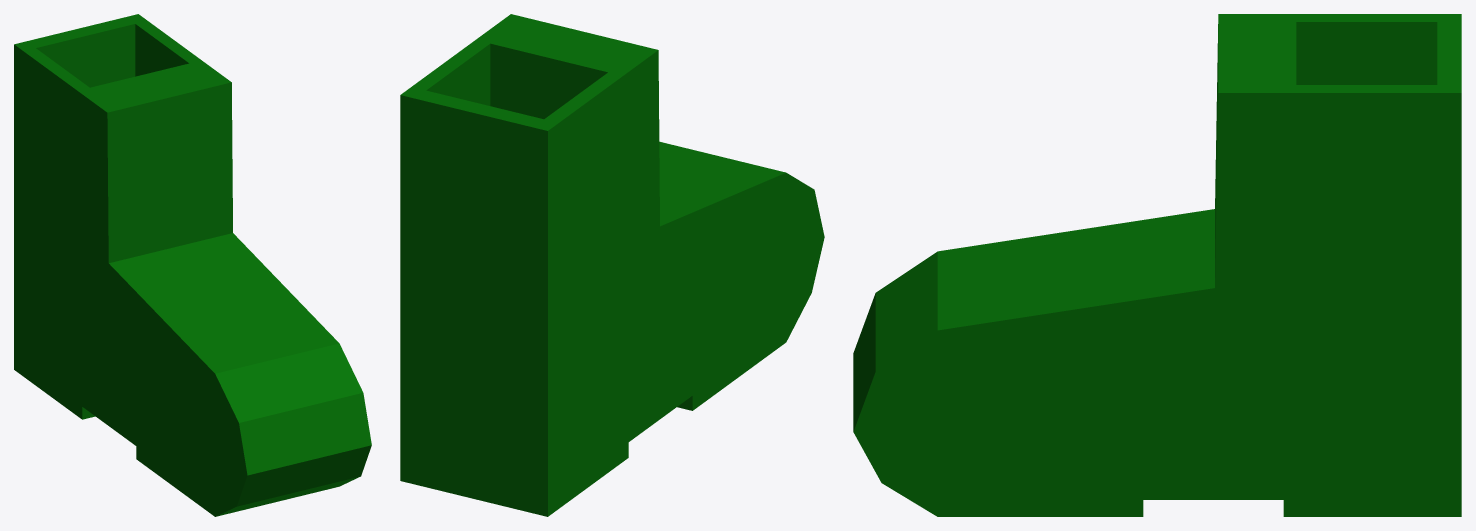
Rendered from boot.fbx.
3 views of the same model, side by side, from view 1: azimuth 30°, elevation 25°; view 2: azimuth 150°, elevation 25°; view 3: azimuth 270°, elevation 25° (orthographic). The views are drawn at different scales.
Parts seen in each view (by area): view 1: Plane; view 2: Plane; view 3: Plane.
Part boxes in pixels (x1=…): Plane: x1=14, y1=14, x2=371, y2=516; Plane: x1=400, y1=14, x2=824, y2=516; Plane: x1=853, y1=14, x2=1461, y2=516.
Size of the model in its own units: 200 by 500 by 650.
